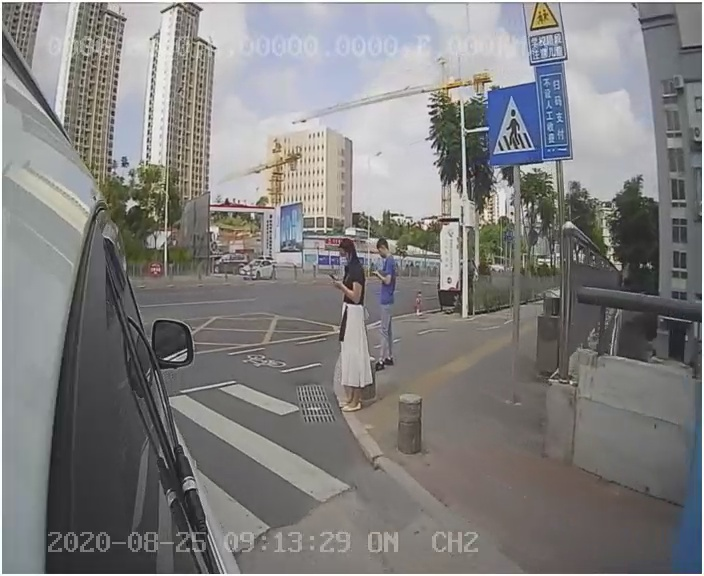person: (323, 241, 379, 414)
